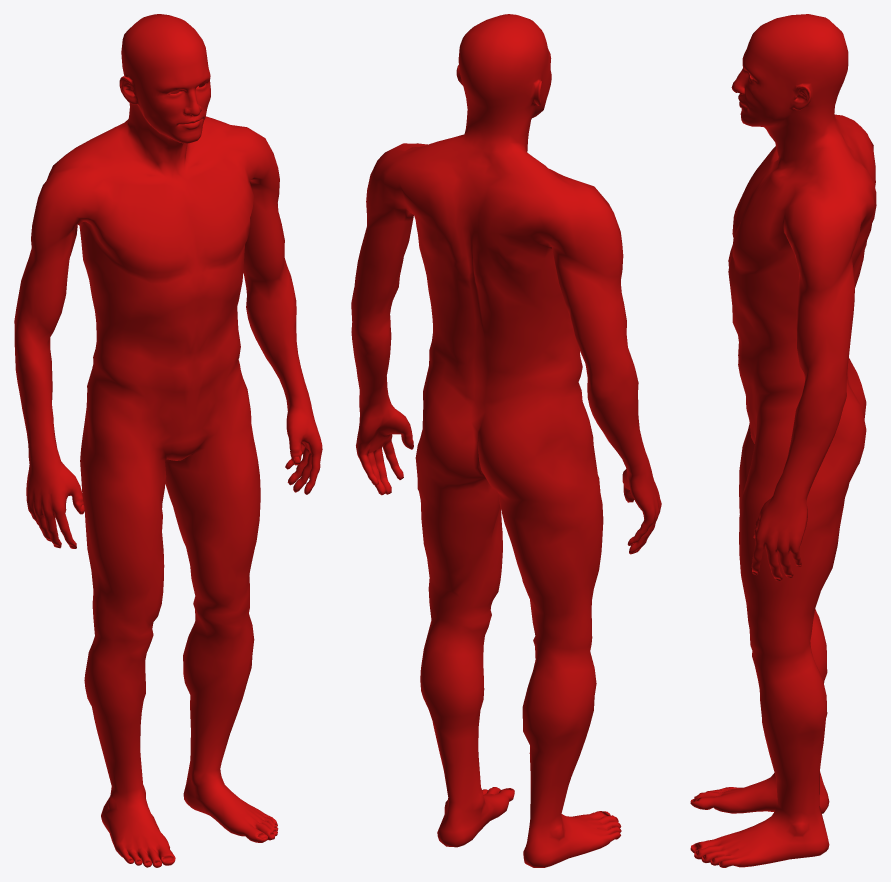
Rendered from agent_2.obj.
3 renders of one model, left to right at view 1: azimuth 30°, elevation 25°; view 2: azimuth 150°, elevation 25°; view 3: azimuth 270°, elevation 25°, orthographic. The views are drawn at different scales.
Visible parts, largest first — view 1: agent_2_Plane.002; view 2: agent_2_Plane.002; view 3: agent_2_Plane.002.
Boxes of the visible parts, <box> form: agent_2_Plane.002: <box>14,14,322,867</box>; agent_2_Plane.002: <box>351,14,661,867</box>; agent_2_Plane.002: <box>690,14,876,867</box>.
Size of the model in its own units: 0.6589 by 1.76 by 0.3643.
